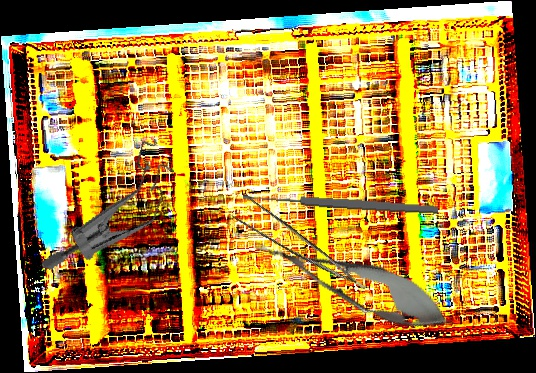Micro Scissor: (243, 219, 463, 346)
Speculum: (38, 116, 185, 299)
Surgical Spoon: (242, 190, 439, 216)
Tissue Forceps: (227, 189, 367, 310)
